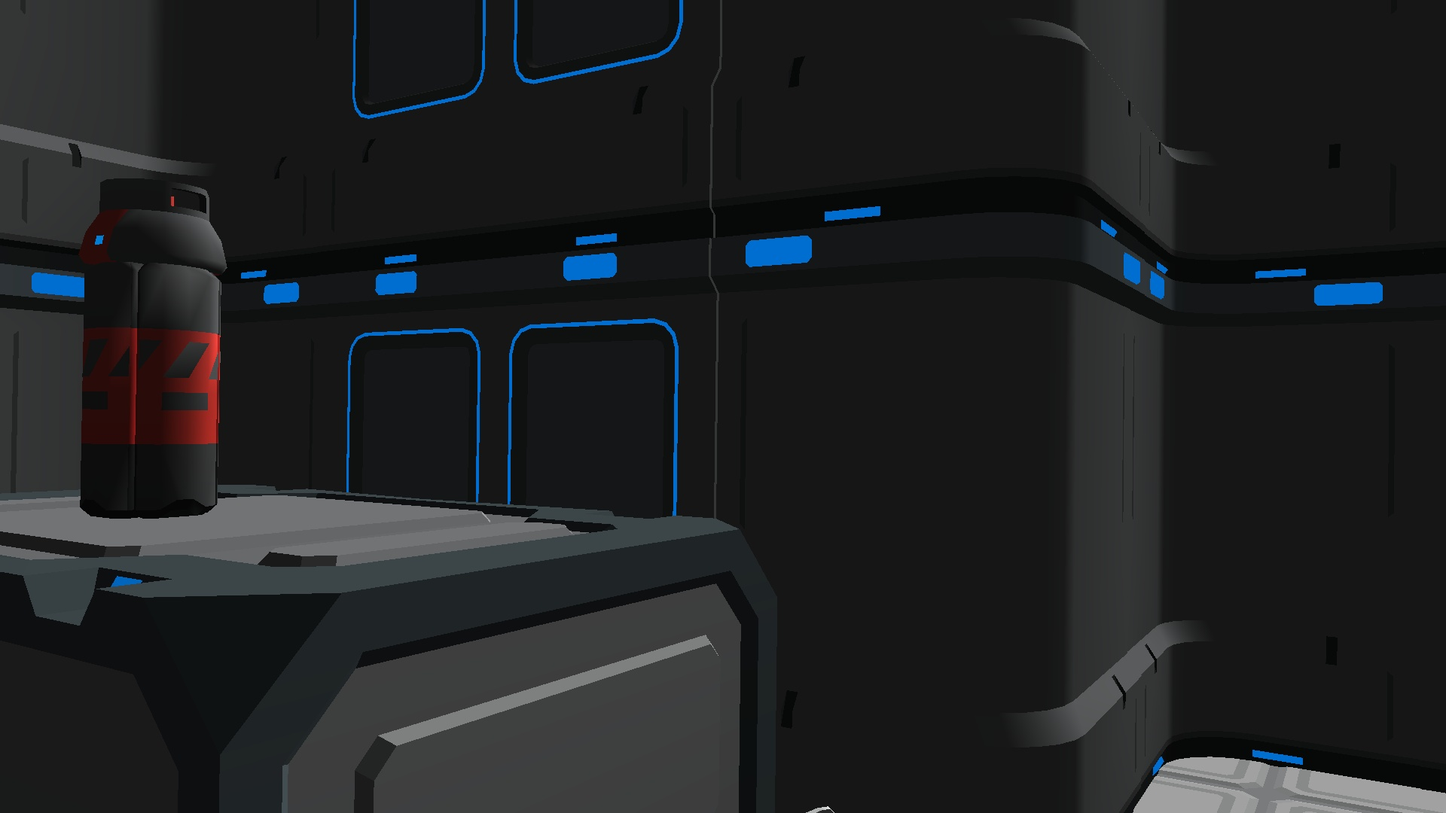red barrel: (79, 178, 227, 519)
